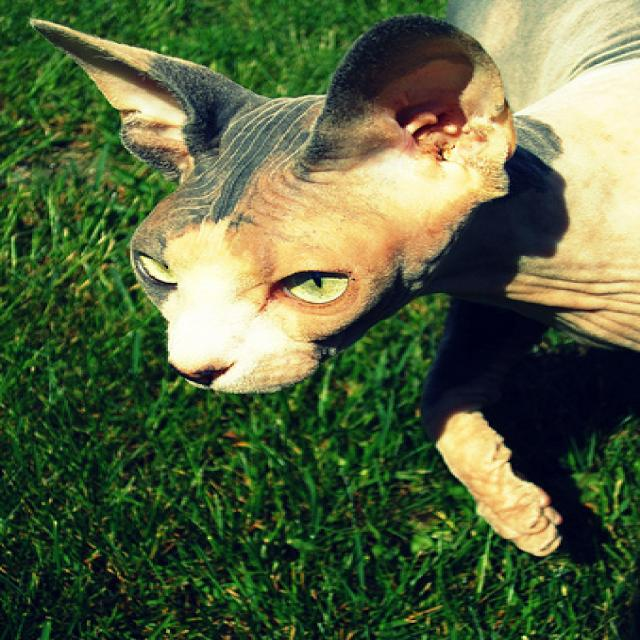Sphynx: (21, 0, 640, 563)
